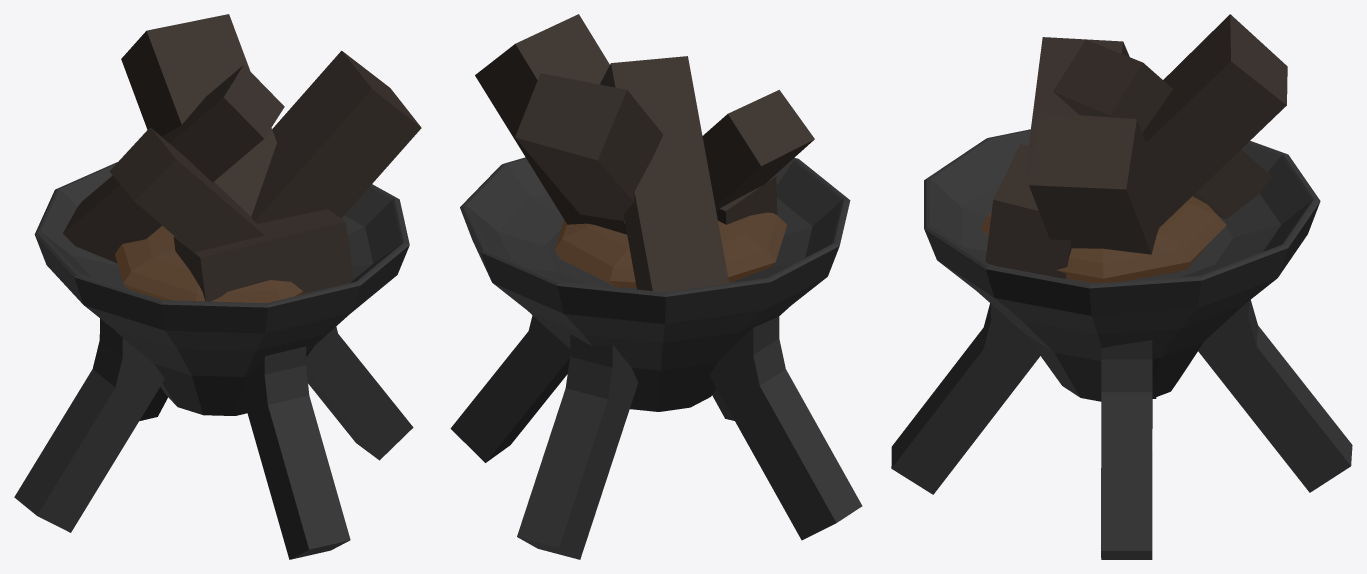
The model's file is Fire.fbx.
3 renders of one model, left to right at view 1: azimuth 30°, elevation 25°; view 2: azimuth 150°, elevation 25°; view 3: azimuth 270°, elevation 25°, orthographic. The views are drawn at different scales.
Visible parts, largest first — view 1: Fireplace; view 2: Fireplace; view 3: Fireplace.
Boxes of the visible parts, x1,y1,x2,y2 form: Fireplace: (14, 14, 421, 559); Fireplace: (450, 14, 862, 559); Fireplace: (891, 14, 1352, 559).
Size of the model in its own units: 547 by 599 by 547.
